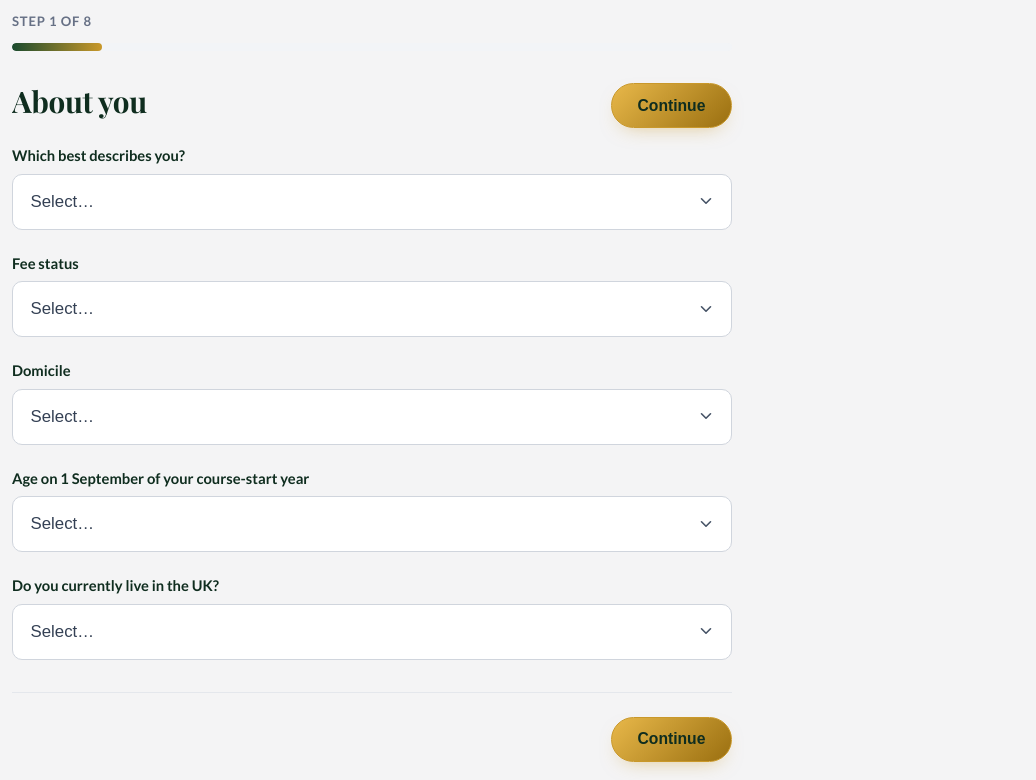
Test case: WizardPage navigation › shows the course start year as fixed 2027 on the route step
This screenshot has width=1036, height=780.
Select "Standard Entry" in the dropdown with id "applicant_type". click: [372, 202]
box: [12,174,732,230]
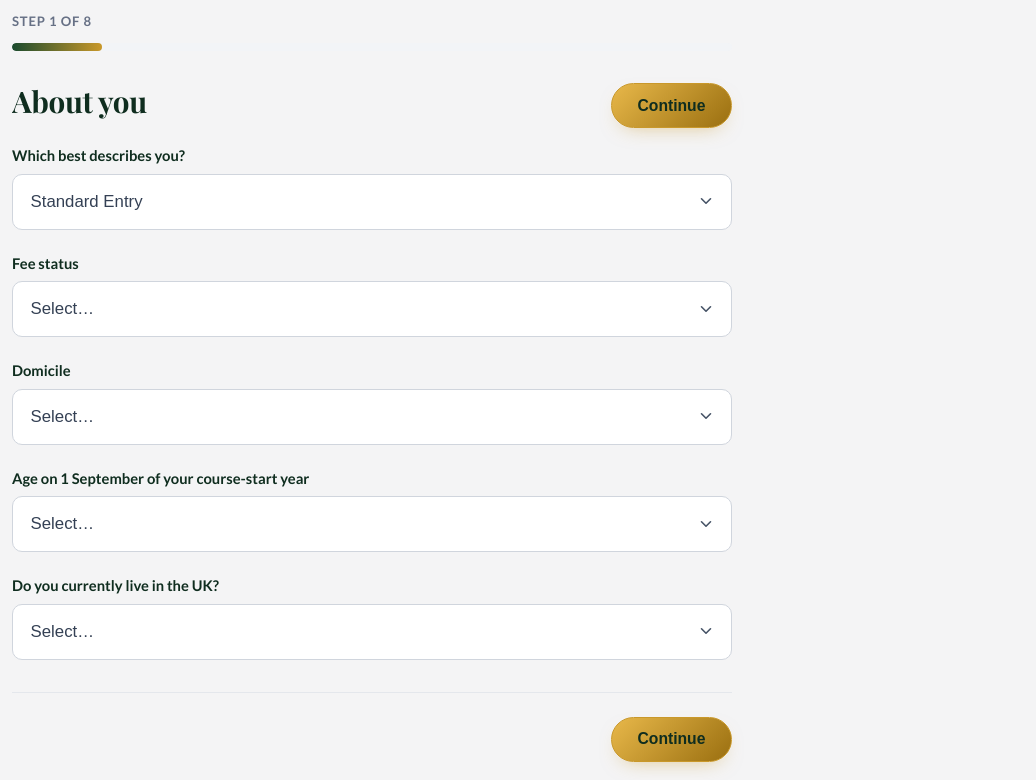
Select "Home (UK)" in the dropdown with id "fee_status". click: [372, 309]
box: [12,281,732,337]
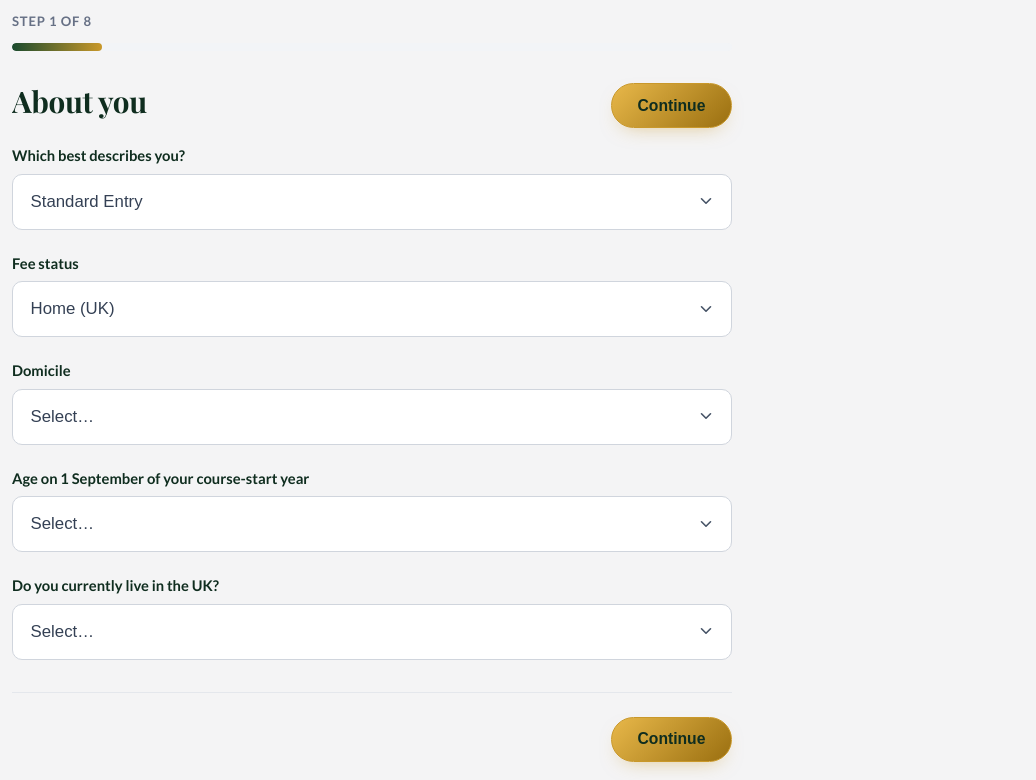
Select "England" in the dropdown with id "domicile". click: [372, 417]
box: [12,389,732,444]
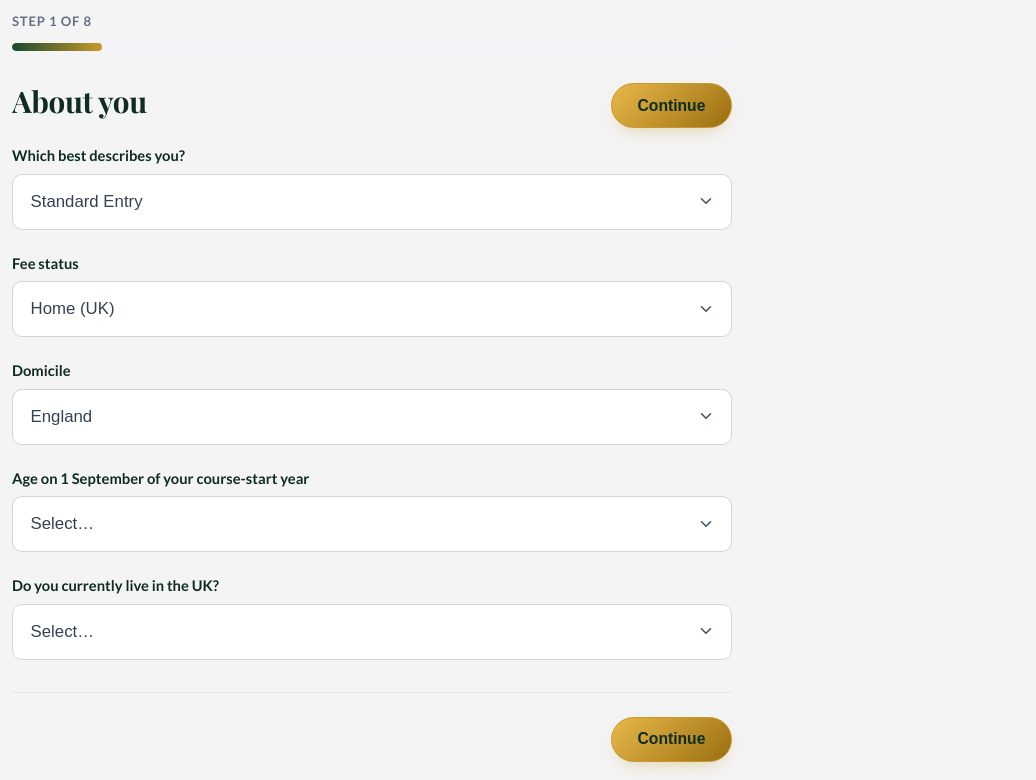
Select "18" in the dropdown with id "age_at_course_start_band". click: [372, 524]
box: [12,496,732,552]
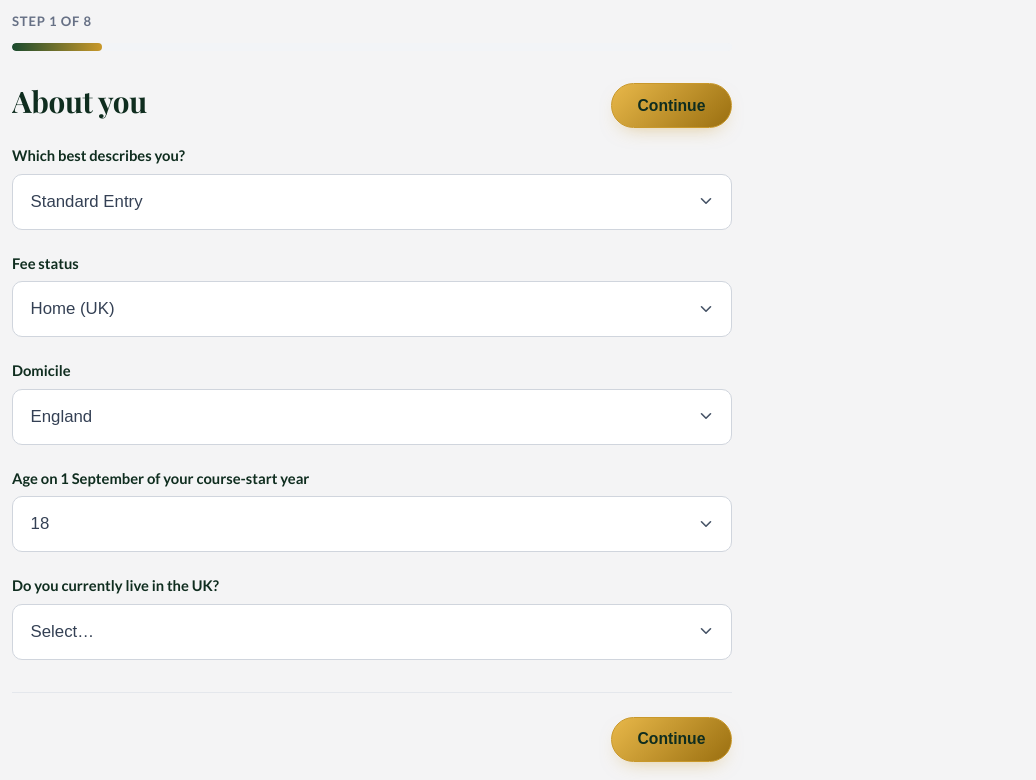
Select "Yes" in the dropdown with id "current_uk_residence". click: [372, 632]
box: [12,604,732,660]
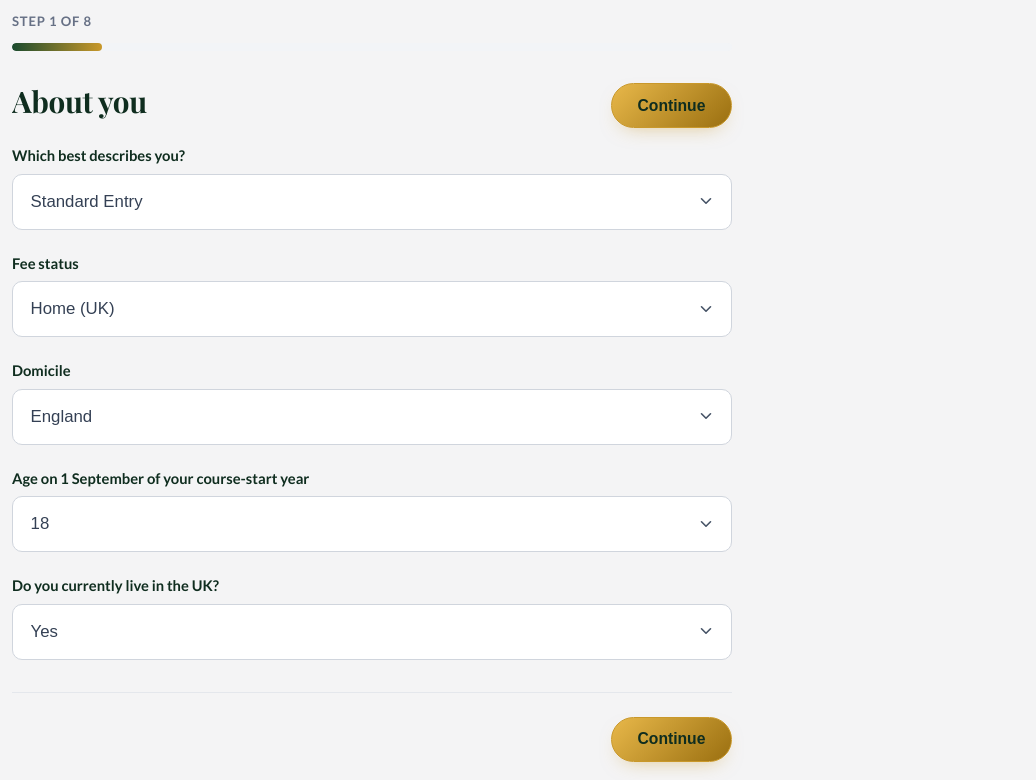
Click the button "Continue" in the row of "About you". click: [671, 106]
box: [611,83,732,128]
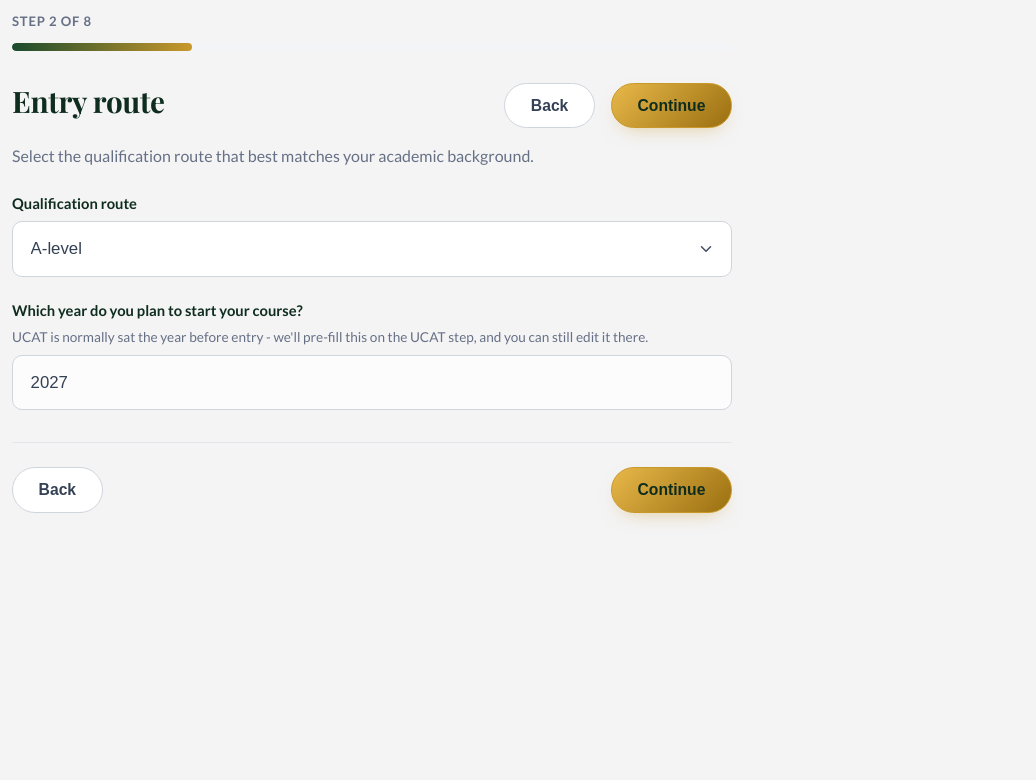
Result: the field labelled "Which year do you plan to start your course?" holds "2027" at [12,355,732,410]
